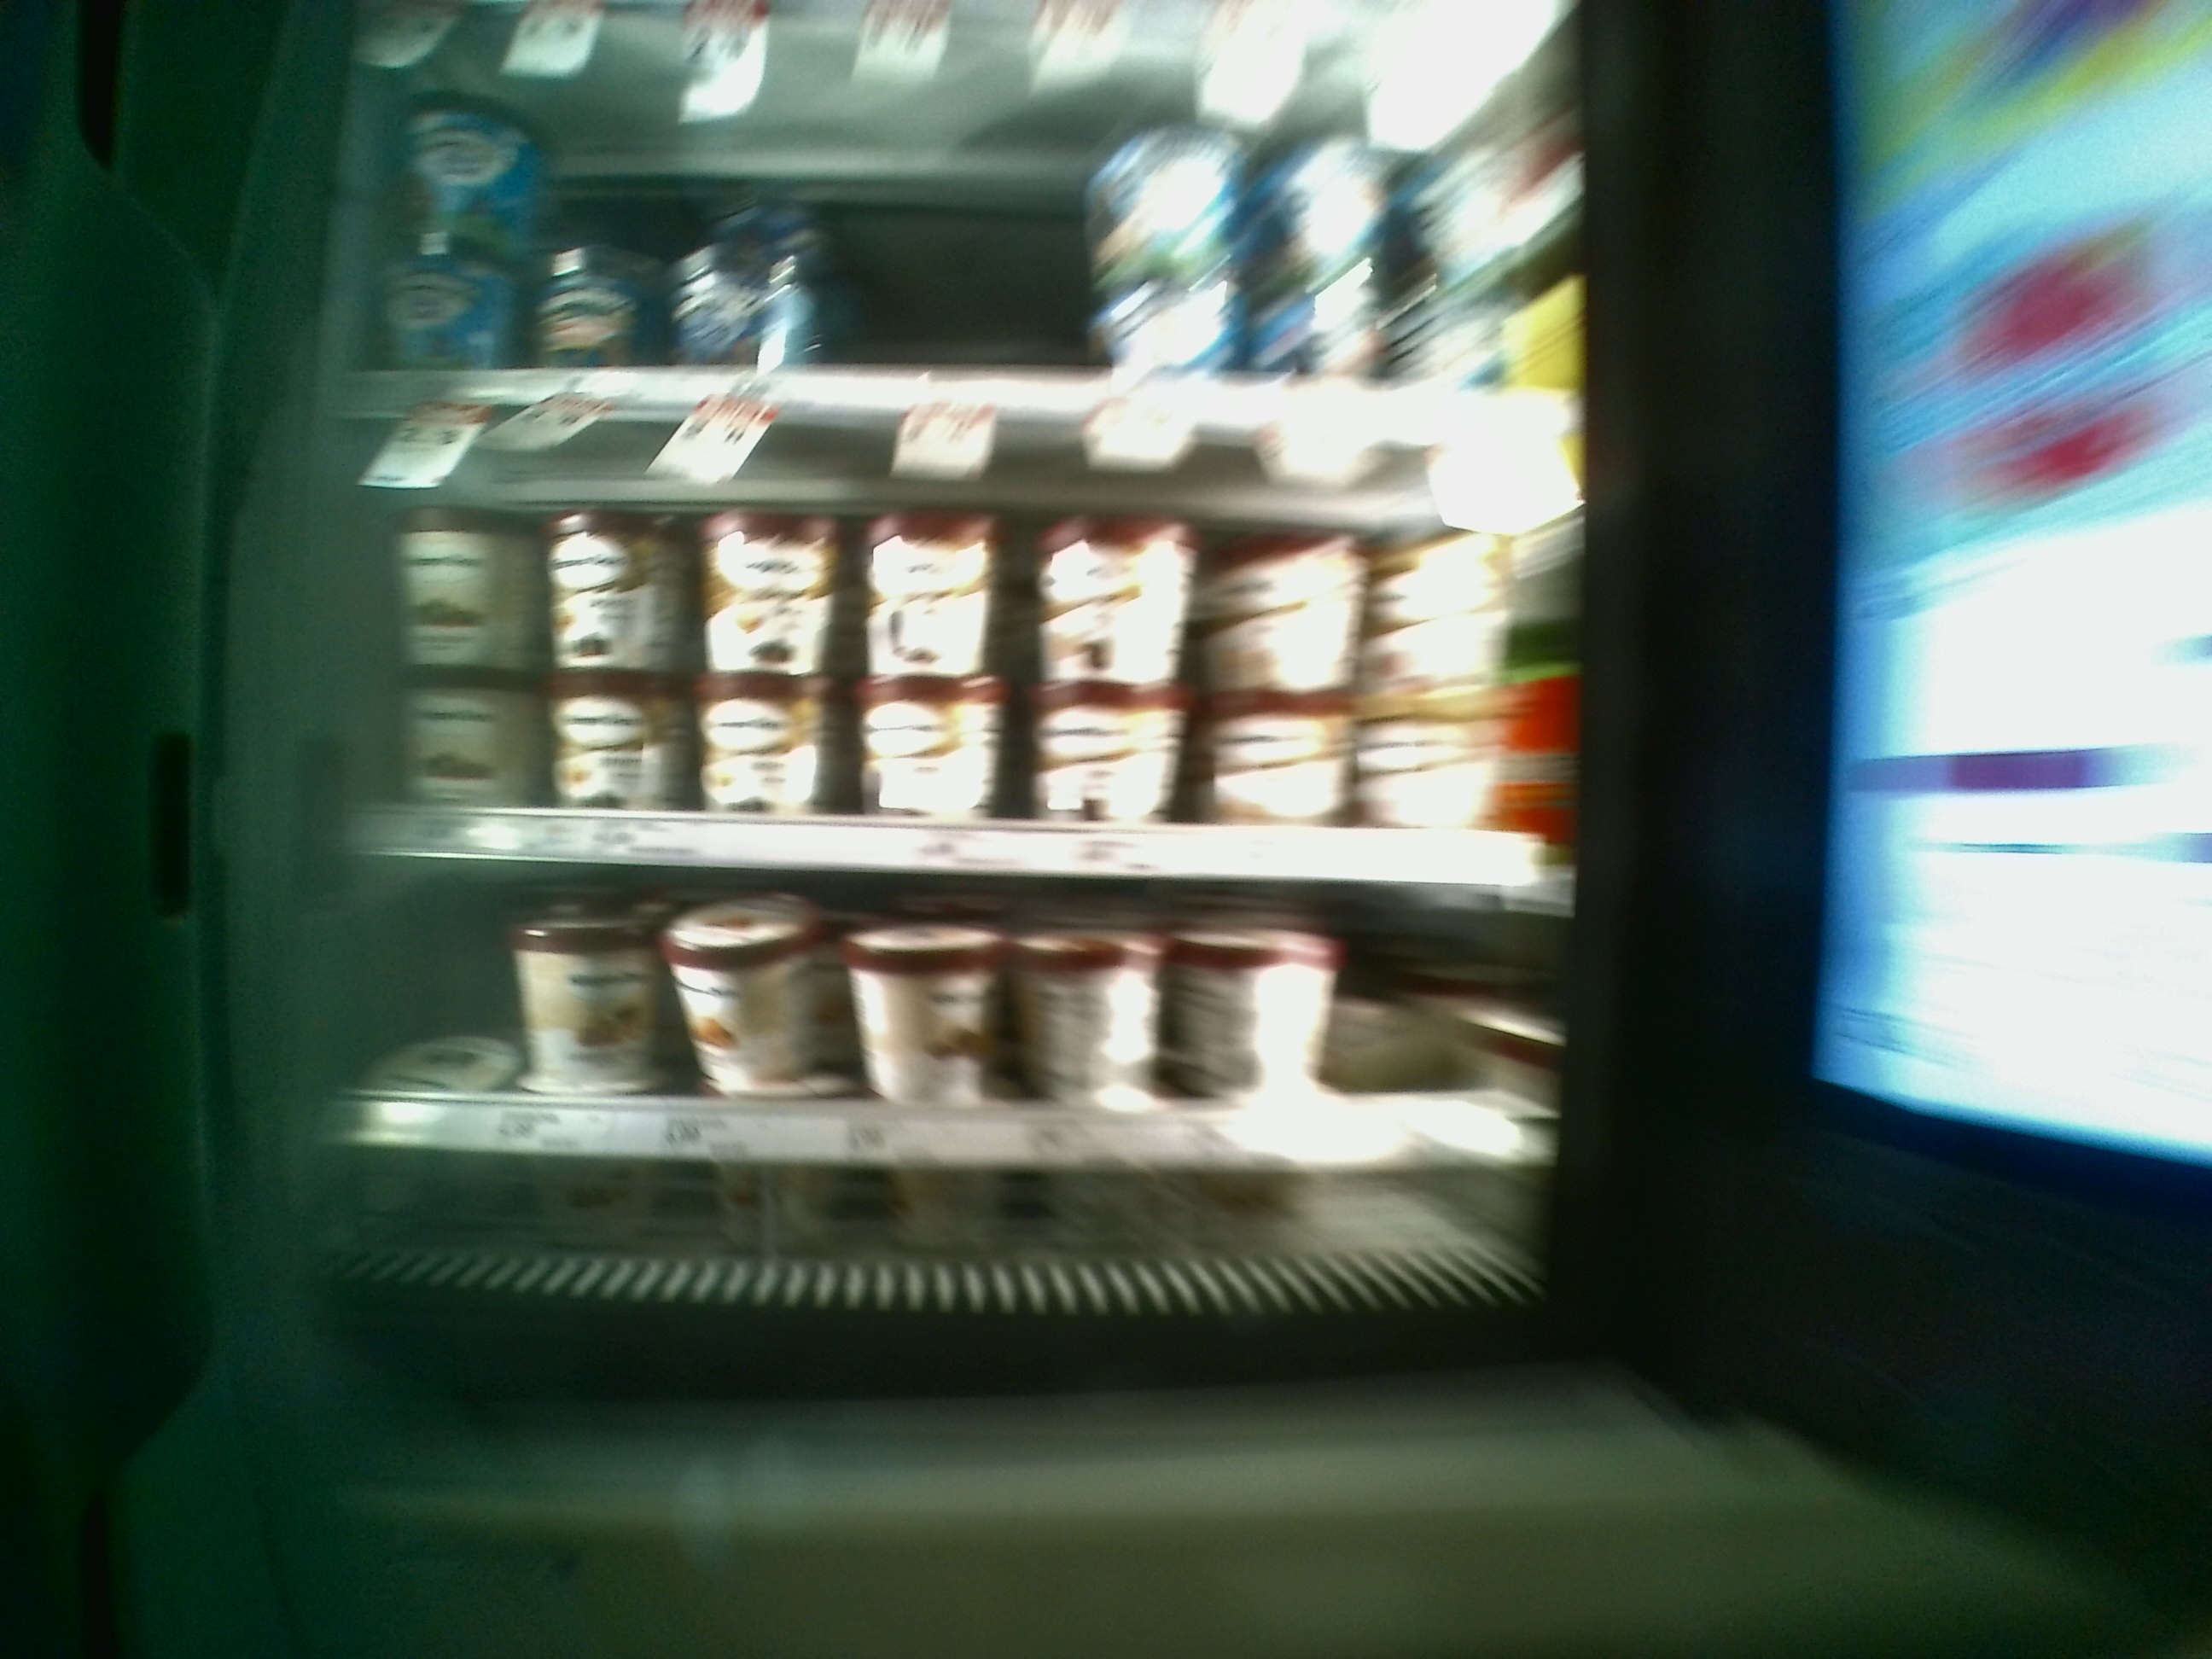shelf: (350, 413, 1588, 884)
